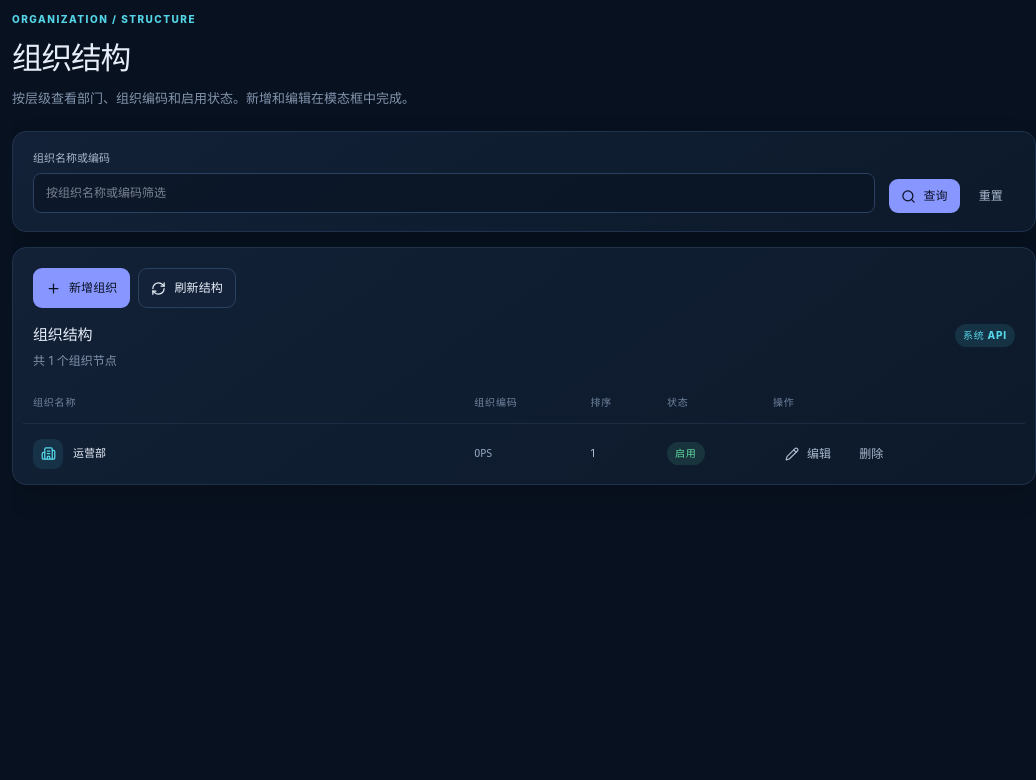
it: DepartmentsPage › 刷新失败时保留已有组织树并提供重试入口
Check: the text "运营部" is shown, box [73,445,106,462]
Click the button "刷新结构" at (187, 288), box [138,268,236,308]
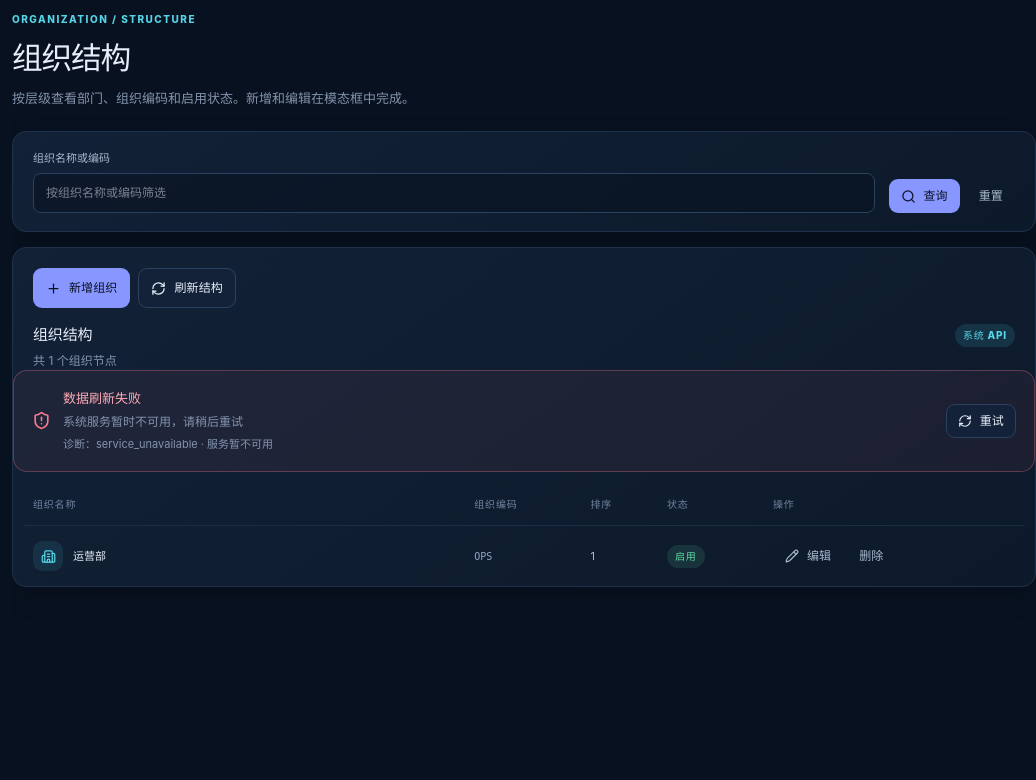
Check: the text "运营部" is shown, box [73,548,106,564]
Check: the text "数据刷新失败" is shown, box [63,390,141,406]
Check: the text "诊断：service_unavailable · 服务暂不可用" is shown, box [63,437,273,451]
Click the button "重试" at (981, 421), box [946,404,1016,438]
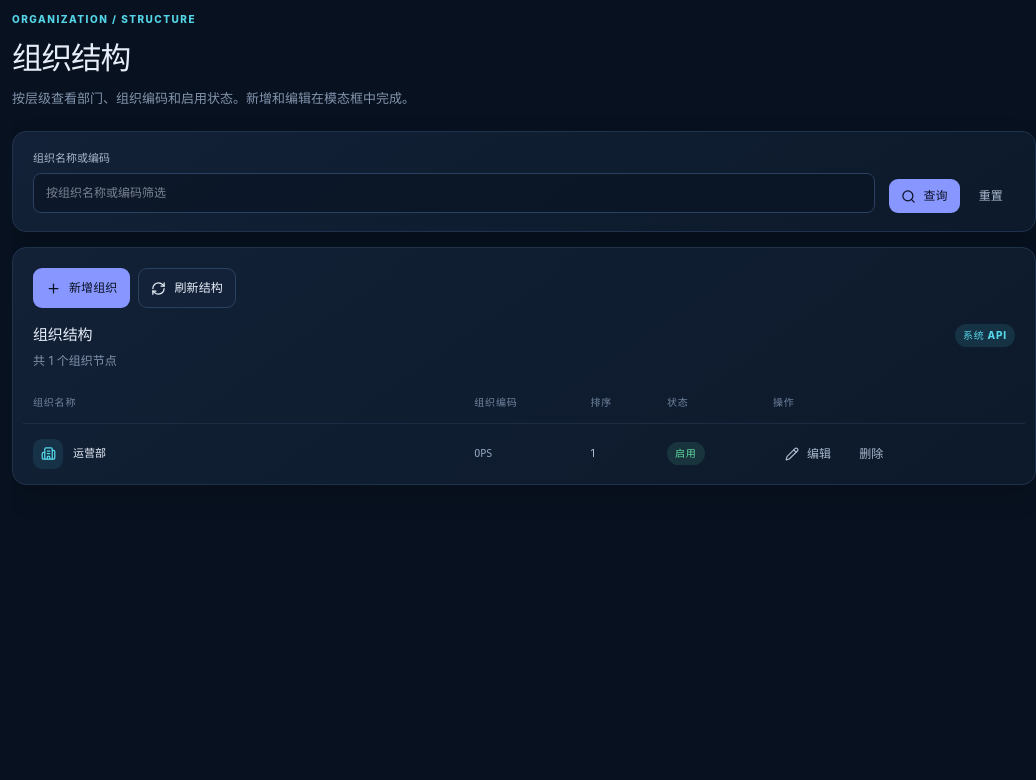
Check: the text "数据刷新失败" is gone
